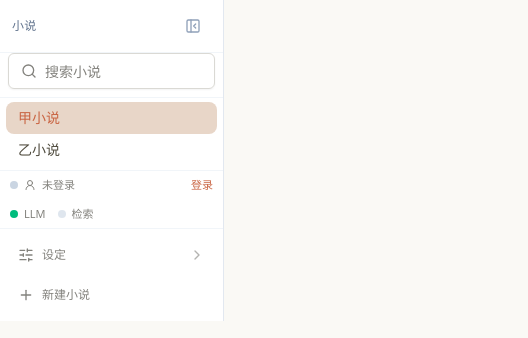
NovelRail › 设定菜单：文风子项展示语感调色
The width and height of the screenshot is (528, 338).
Expected: the text "甲小说" is shown, [18,108,60,128]
Step 1. Click the button "设定" → (112, 255), box [6,237,217,273]
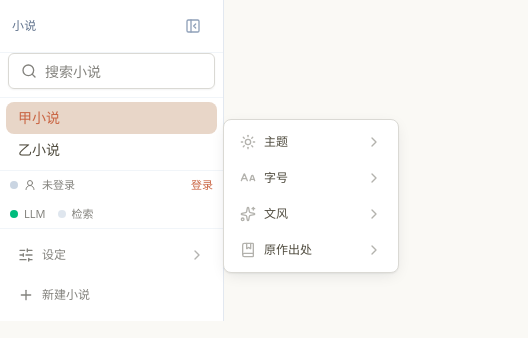
Step 2. Click the button "文风" → (311, 214), box [228,196,394,232]
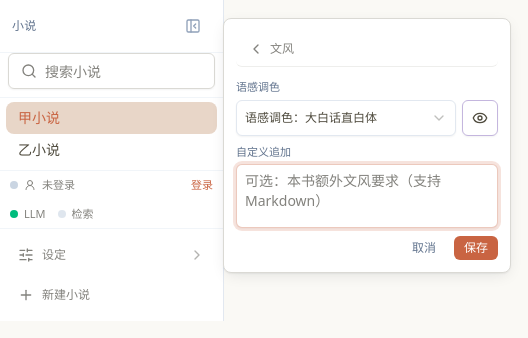
Now the text "语感调色" is shown, box [236,79,280,94]
